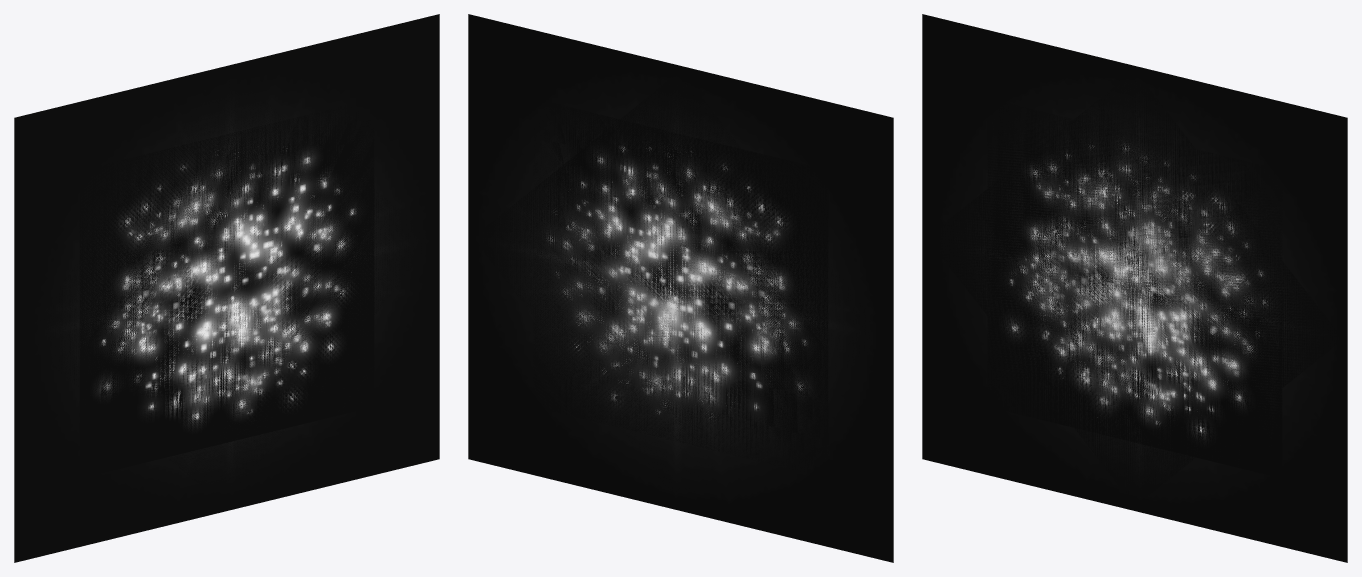
The model's file is si_eos_2110.glb.
3 renders of one model, left to right at view 1: azimuth 30°, elevation 25°; view 2: azimuth 150°, elevation 25°; view 3: azimuth 330°, elevation 25°, orthographic.
Parts seen in each view (by area): view 1: layer_00_si_est_0002, layer_04_si_est_0200, layer_03_si_est_0200, layer_05_si_est_0200; view 2: layer_00_si_est_0002, layer_04_si_est_0200, layer_03_si_est_0200, layer_05_si_est_0200; view 3: layer_00_si_est_0002, layer_03_si_est_0200, layer_04_si_est_0200, layer_05_si_est_0200, layer_02_si_est_0101.
Boxes of the visible parts, box(x1,y1,x2,y2) form: layer_00_si_est_0002: box(14, 14, 439, 562); layer_04_si_est_0200: box(79, 104, 374, 477); layer_03_si_est_0200: box(79, 103, 374, 478); layer_05_si_est_0200: box(19, 71, 434, 505); layer_00_si_est_0002: box(468, 14, 893, 562); layer_04_si_est_0200: box(533, 104, 828, 469); layer_03_si_est_0200: box(533, 101, 828, 462); layer_05_si_est_0200: box(473, 71, 878, 475); layer_00_si_est_0002: box(922, 14, 1347, 562); layer_03_si_est_0200: box(987, 99, 1282, 478); layer_04_si_est_0200: box(987, 99, 1282, 477); layer_05_si_est_0200: box(926, 71, 1342, 505); layer_02_si_est_0101: box(1086, 223, 1190, 330).
Bounding box in the file's own units: 58.02 × 58.02 × 4.38e-06.
Materials: 3 (3 with a texture image).
